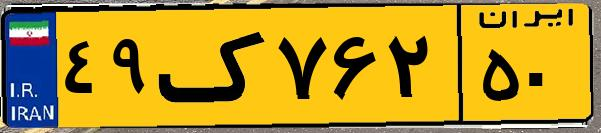0: (525, 38, 570, 115)
2: (385, 28, 445, 110)
4: (57, 26, 110, 100)
5: (475, 38, 525, 113)
6: (330, 28, 385, 110)
7: (270, 28, 330, 110)
9: (110, 28, 158, 98)
ک: (158, 12, 270, 120)
